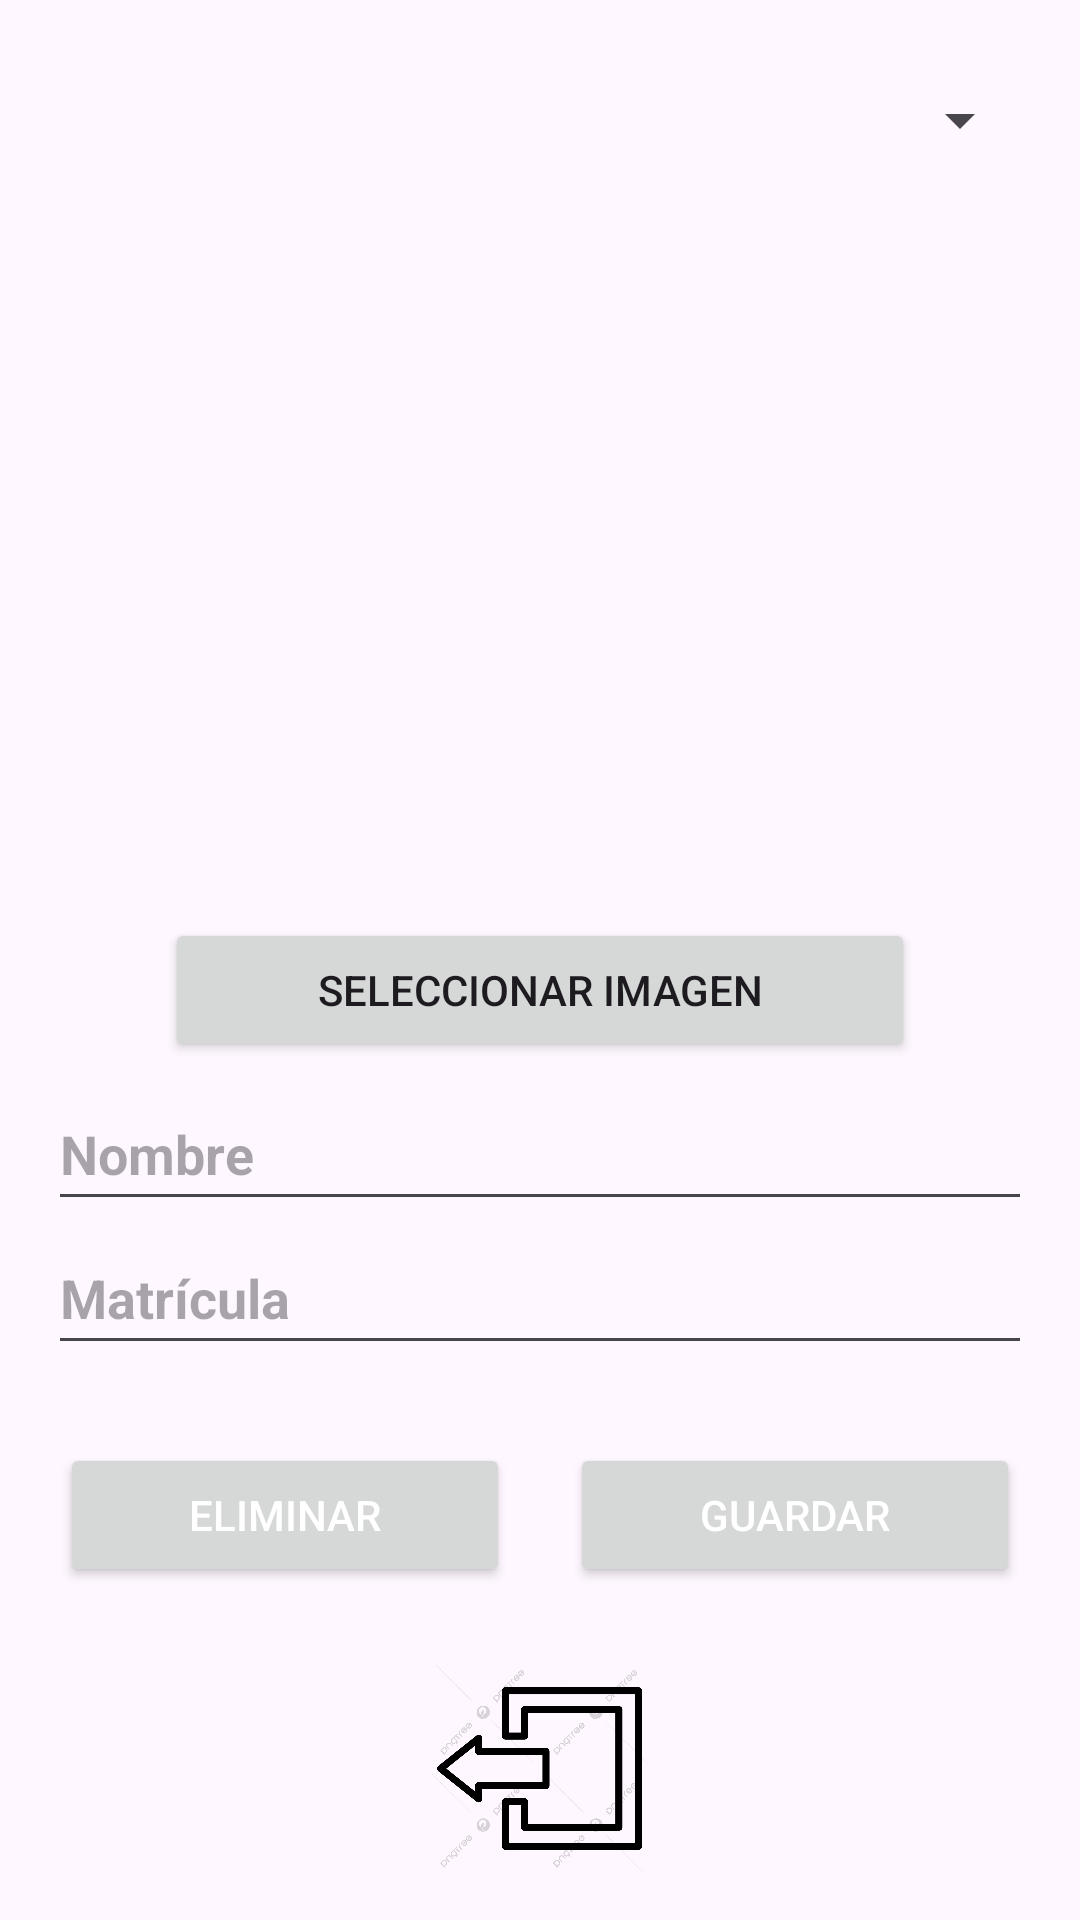

Where to tap for icons on this 1080 × 1920 app screen, as [x,y]:
salir: [539,1769]
